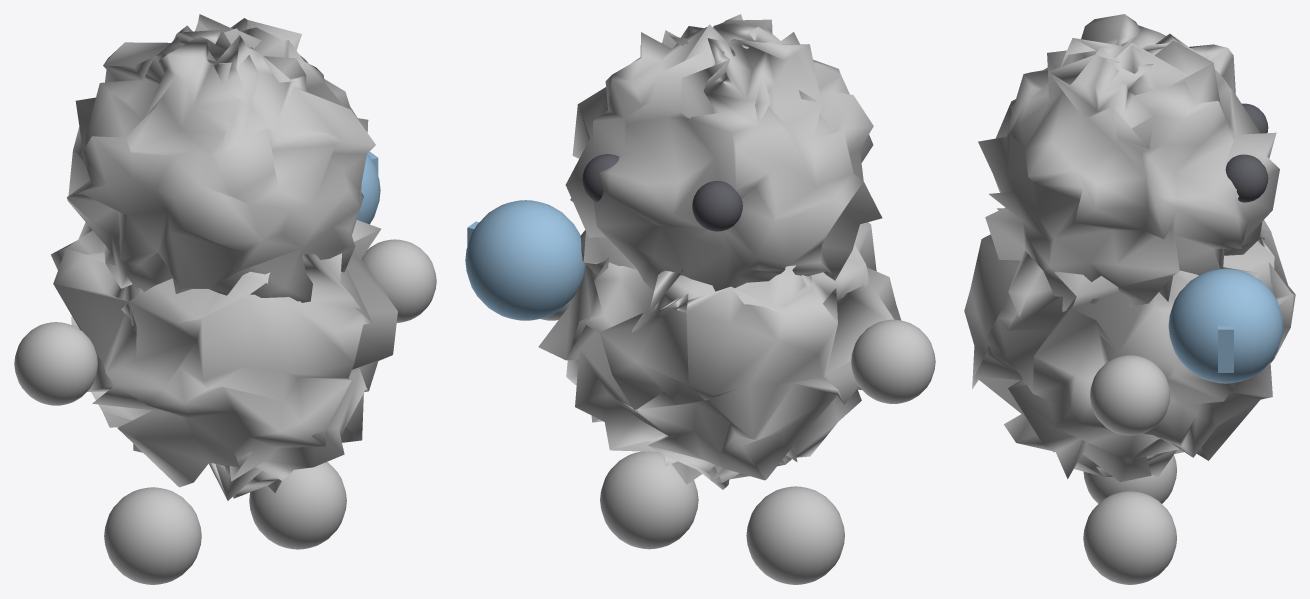
Rendered from clay_cat_fish_toy.glb.
3 views of the same model, side by side, from view 1: azimuth 30°, elevation 25°; view 2: azimuth 150°, elevation 25°; view 3: azimuth 270°, elevation 25° (orthographic). The views are drawn at different scales.
Visible parts, largest first — view 1: fintail; view 2: fintail; view 3: fintail.
Part boxes in pixels (x1,y1,x2,y2): fintail: [14, 14, 436, 584]; fintail: [465, 14, 935, 584]; fintail: [964, 14, 1295, 584].
Bounding box in the file's own units: 1.43 × 1.76 × 1.04.
